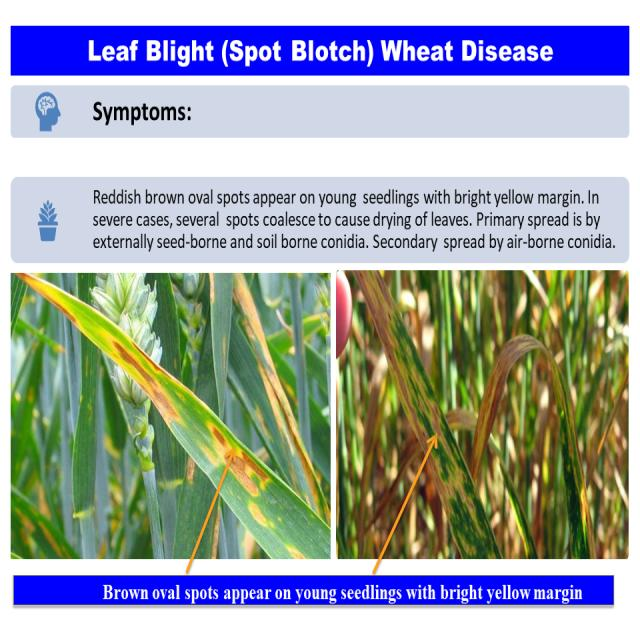blight: (115, 334, 189, 434), (235, 446, 275, 536)
